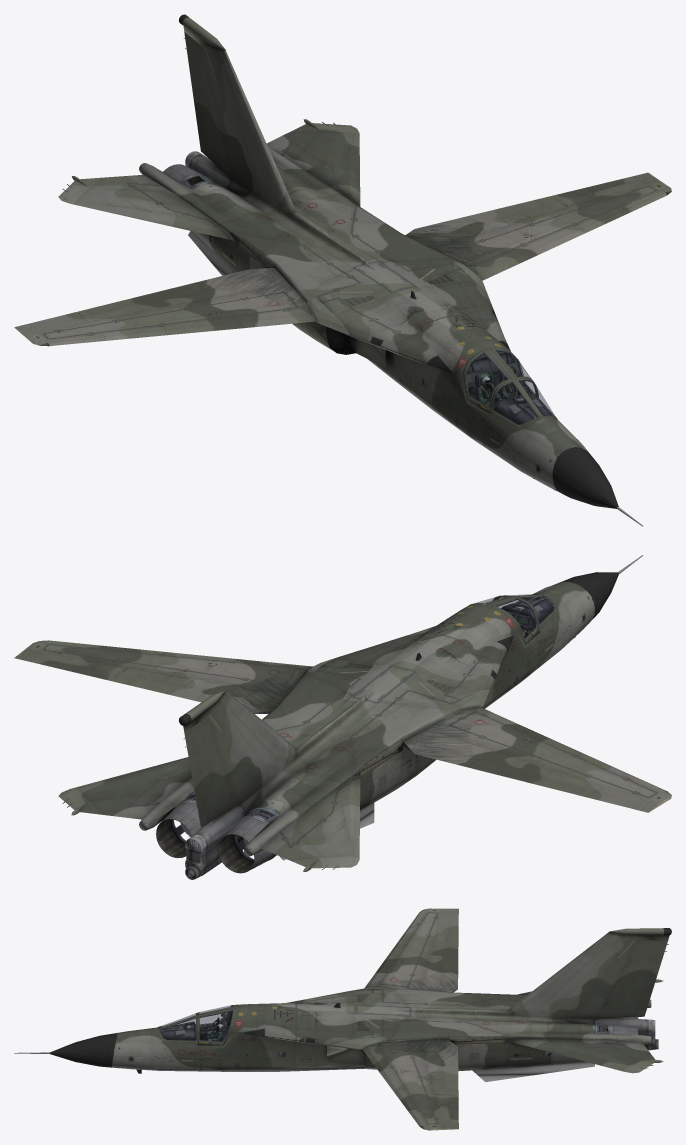
Rendered from F-111F_Aardvark.dat.obj.
3 renders of one model, top to bottom at view 1: azimuth 30°, elevation 25°; view 2: azimuth 150°, elevation 25°; view 3: azimuth 270°, elevation 25°, orthographic. The views are drawn at different scales.
Visible parts, largest first — view 1: F-111F_LOD0, F-111F_WingR01, F-111F_WingL01, F-111F_ElevatorR01, F-111F_ElevatorL01, F-111F_Glass_Canopy01, F-111F_RudderL01, F-111F_VoletR04, F-111F_VoletL04, F-111F_VoletR03, F-111F_VoletL03; view 2: F-111F_LOD0, F-111F_WingR01, F-111F_WingL01, F-111F_ElevatorR01, F-111F_ElevatorL01, F-111F_RudderL01, F-111F_EngineR01, F-111F_EngineL01, F-111F_Glass_Canopy01, F-111F_BrakeR03, F-111F_FlapR02, F-111F_FlapL02 (+4 smaller); view 3: F-111F_LOD0, F-111F_WingL01, F-111F_RudderL01, F-111F_WingR01, F-111F_ElevatorL01, F-111F_Glass_Canopy01, F-111F_VoletL05, F-111F_EngineL01, F-111F_VoletL04, F-111F_BrakeL03, F-111F_FlapL02, F-111F_FlapR02 (+2 smaller).
Boxes of the visible parts, box(x1,y1,x2,y2) form: F-111F_LOD0: box(139, 14, 642, 526); F-111F_WingR01: box(14, 268, 309, 346); F-111F_WingL01: box(405, 172, 671, 268); F-111F_ElevatorR01: box(58, 174, 234, 240); F-111F_ElevatorL01: box(266, 119, 360, 206); F-111F_Glass_Canopy01: box(465, 350, 554, 424); F-111F_RudderL01: box(184, 32, 231, 178); F-111F_VoletR04: box(237, 308, 315, 327); F-111F_VoletL04: box(470, 247, 531, 280); F-111F_VoletR03: box(162, 317, 243, 334); F-111F_VoletL03: box(523, 225, 584, 257); F-111F_LOD0: box(139, 555, 643, 879); F-111F_WingR01: box(403, 708, 671, 812); F-111F_WingL01: box(14, 640, 308, 713); F-111F_ElevatorR01: box(262, 775, 360, 871); F-111F_ElevatorL01: box(58, 757, 191, 819); F-111F_RudderL01: box(184, 718, 239, 827); F-111F_EngineR01: box(218, 807, 279, 873); F-111F_EngineL01: box(156, 792, 203, 858); F-111F_Glass_Canopy01: box(475, 594, 554, 638); F-111F_BrakeR03: box(427, 732, 491, 758); F-111F_FlapR02: box(468, 759, 542, 783); F-111F_FlapL02: box(129, 678, 204, 700); F-111F_LOD0: box(14, 928, 671, 1081); F-111F_WingL01: box(376, 1038, 458, 1130); F-111F_RudderL01: box(595, 940, 668, 1019); F-111F_WingR01: box(376, 908, 458, 992); F-111F_ElevatorL01: box(507, 1037, 663, 1073); F-111F_Glass_Canopy01: box(160, 1005, 232, 1041); F-111F_VoletL05: box(333, 1037, 382, 1049); F-111F_EngineL01: box(595, 1024, 638, 1034); F-111F_VoletL04: box(362, 1044, 389, 1069); F-111F_BrakeL03: box(421, 1044, 442, 1065); F-111F_FlapL02: box(442, 1065, 458, 1088); F-111F_FlapR02: box(442, 947, 458, 970).
Size of the model in its own units: 19.24 by 5.88 by 24.11.
